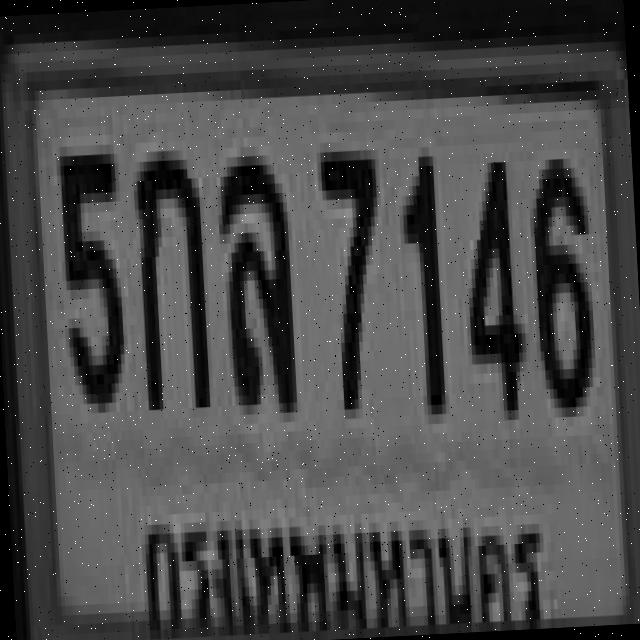1: (396, 148, 442, 406)
10GorGai: (132, 140, 206, 401)
4: (458, 152, 522, 412)
45LorLing: (215, 145, 293, 406)
5: (56, 144, 123, 404)
6: (527, 149, 594, 409)
7: (316, 140, 384, 410)
Bangkok: (136, 476, 555, 640)
